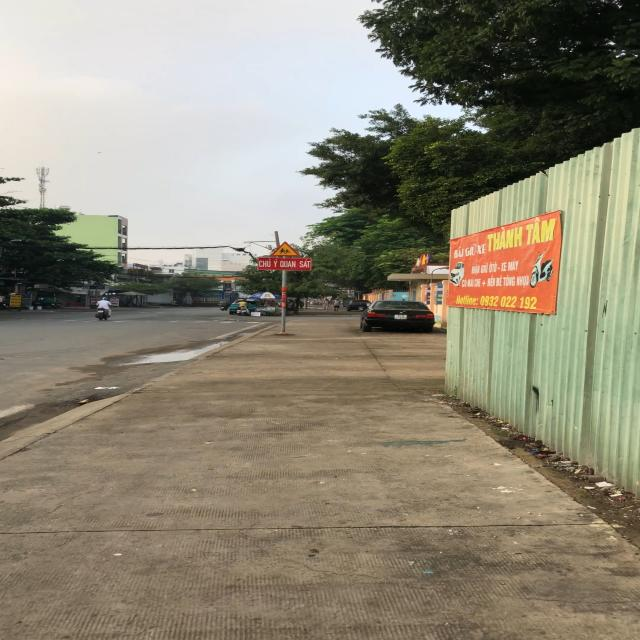Bien bao tre em: (268, 240, 300, 257)
